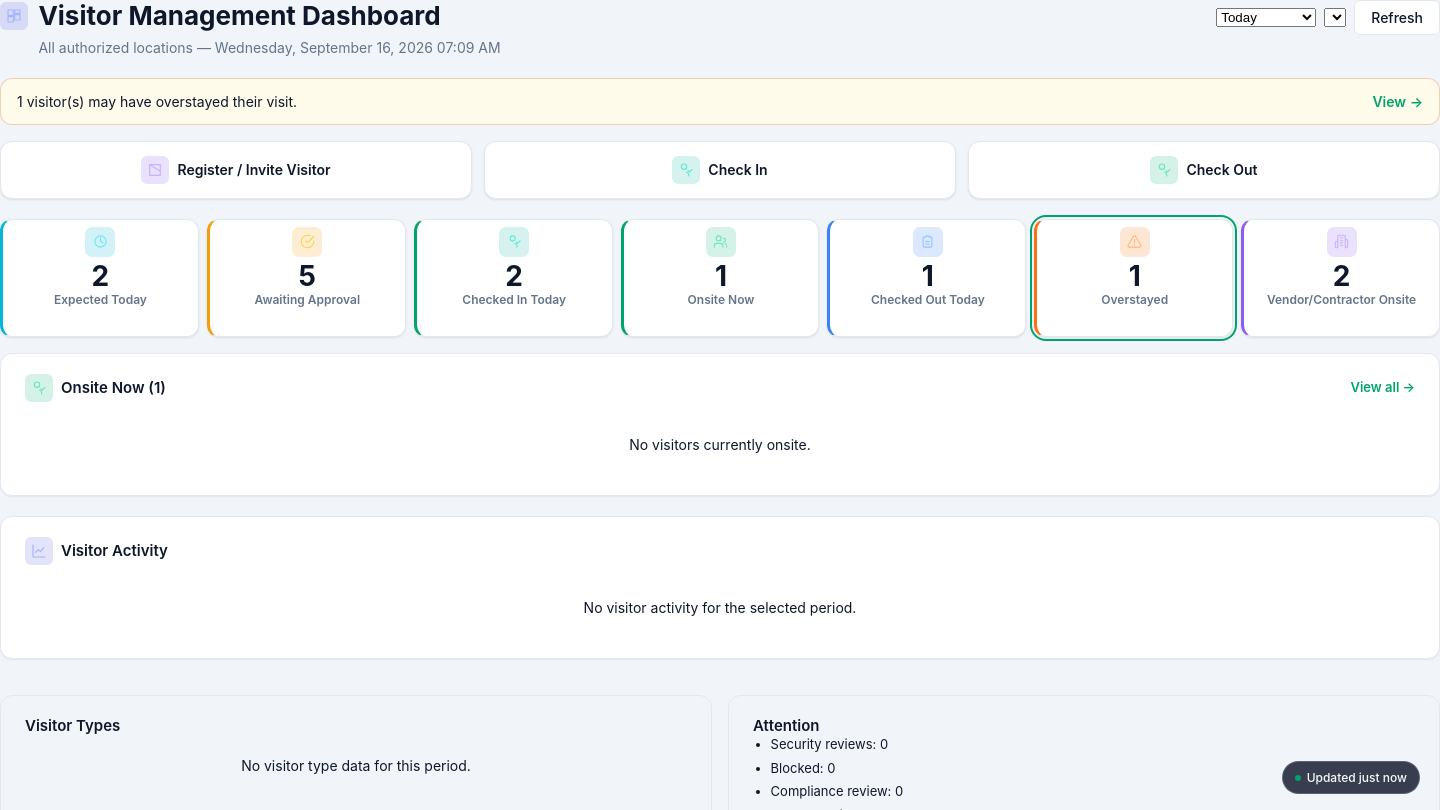
Test: Dashboard KPI interactions › supports keyboard activation on modal KPI cards
Expected: the heading "Visitor Management Dashboard" is shown, x1=38 y1=0 x2=501 y2=32
Press Enter in the button with aria-label "View overstayed visitors", box x1=1034 y1=219 x2=1233 y2=337
Click the button with aria-label "View overstayed visitors". click: [1134, 278]
box: x1=1034 y1=219 x2=1233 y2=337
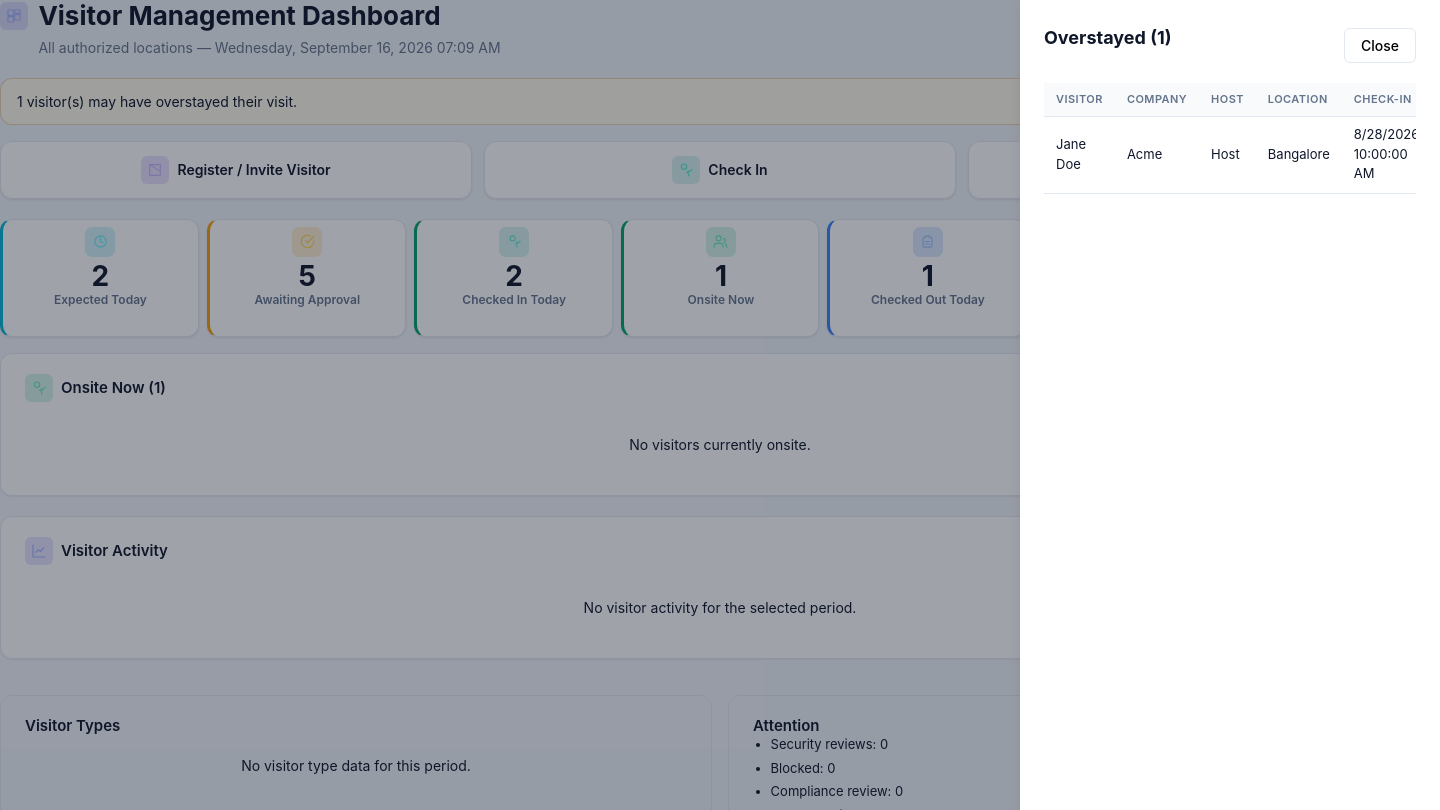
Expected: the dialog is shown, x1=1020 y1=0 x2=1439 y2=809
